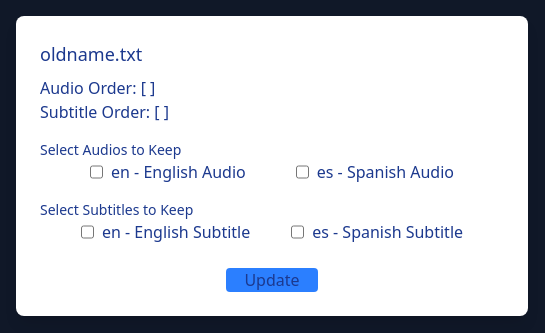
Test: MetadataMergeChangeModal › updates selected subtitle streams correctly
The image size is (545, 333).
Expected: the text "Subtitle Order: [ ]" is shown, [40, 101, 169, 123]
Click the checkbox labelled "en - English Subtitle" at (87, 232), box [81, 220, 94, 244]
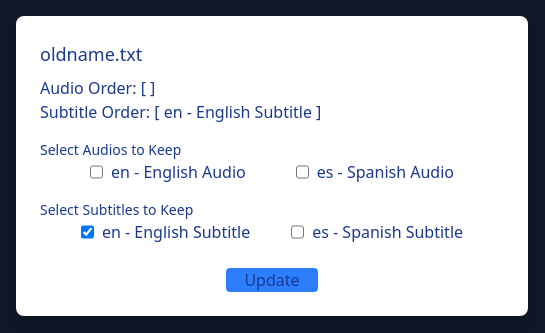
Expected: the text "Subtitle Order: [ en - English Subtitle ]" is shown, [40, 101, 321, 123]
